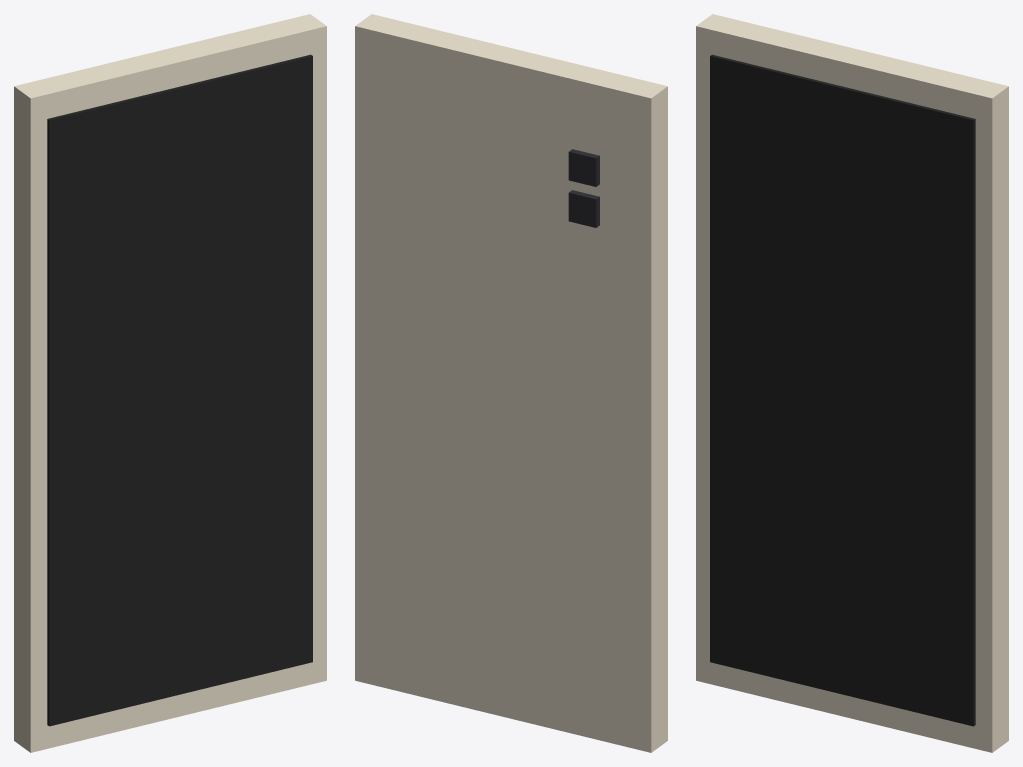
File: iphone-xs.glb
3 views of the same model, side by side, from view 1: azimuth 30°, elevation 25°; view 2: azimuth 150°, elevation 25°; view 3: azimuth 330°, elevation 25° (orthographic).
Visible parts, largest first — view 1: tela, corpo; view 2: corpo, lente-1, lente-0; view 3: tela, corpo.
Boxes of the visible parts, x1=… form: tela: x1=47, y1=54, x2=312, y2=726; corpo: x1=14, y1=14, x2=326, y2=752; corpo: x1=355, y1=14, x2=667, y2=752; lente-1: x1=568, y1=190, x2=599, y2=227; lente-0: x1=568, y1=149, x2=599, y2=186; tela: x1=710, y1=54, x2=975, y2=726; corpo: x1=696, y1=14, x2=1008, y2=752.
Bounding box in the file's own units: 0.7565 × 1.6 × 0.1.
